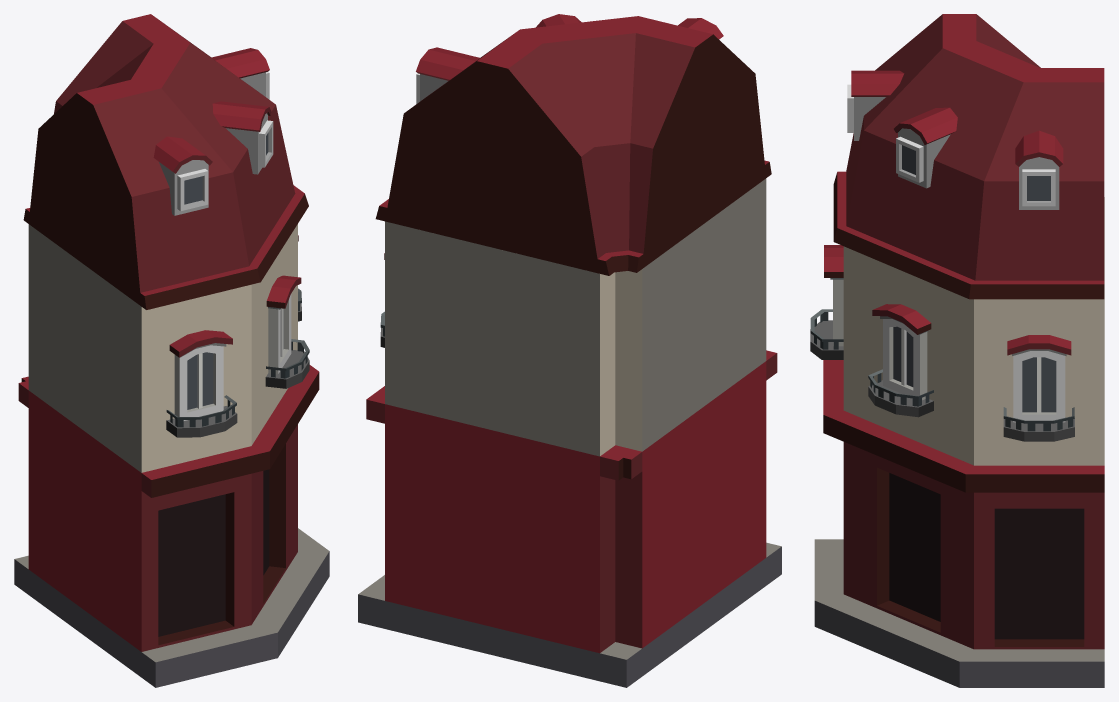
Rendered from TB_CITY_BD_Red_RCorner.FBX.
3 views of the same model, side by side, from view 1: azimuth 30°, elevation 25°; view 2: azimuth 150°, elevation 25°; view 3: azimuth 270°, elevation 25° (orthographic). The views are drawn at different scales.
Visible parts, largest first — view 1: TB_CITY_BD_Red_RCorner; view 2: TB_CITY_BD_Red_RCorner; view 3: TB_CITY_BD_Red_RCorner.
Part boxes in pixels (x1,y1,x2,y2): TB_CITY_BD_Red_RCorner: (14, 14, 329, 687); TB_CITY_BD_Red_RCorner: (358, 14, 781, 687); TB_CITY_BD_Red_RCorner: (810, 14, 1104, 687).
Size of the model in its own units: 8.11 by 16.78 by 8.11.
